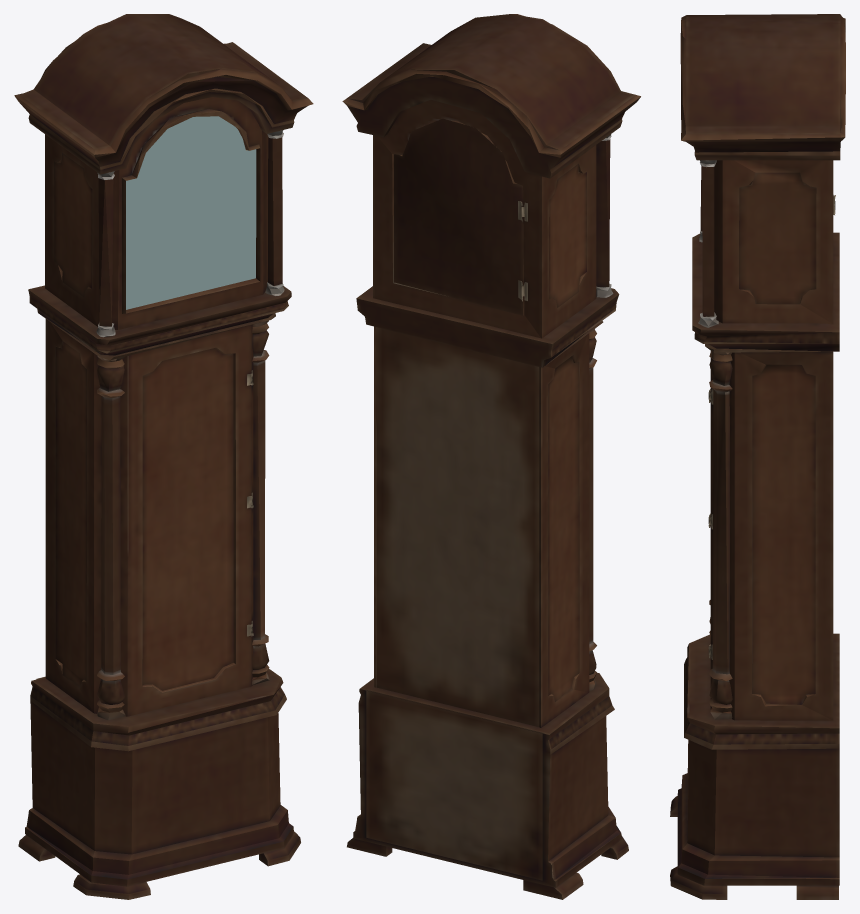
File: vintage_grandfather_clock_01.fbx
3 views of the same model, side by side, from view 1: azimuth 30°, elevation 25°; view 2: azimuth 150°, elevation 25°; view 3: azimuth 270°, elevation 25° (orthographic). The views are drawn at different scales.
Visible parts, largest first — view 1: vintage_grandfather_clock_01; view 2: vintage_grandfather_clock_01; view 3: vintage_grandfather_clock_01.
Boxes of the visible parts, <box> form: vintage_grandfather_clock_01: <box>14,14,313,899</box>; vintage_grandfather_clock_01: <box>342,14,640,899</box>; vintage_grandfather_clock_01: <box>670,14,845,899</box>.
Size of the model in its own units: 0.6249 by 2.19 by 0.4261.
